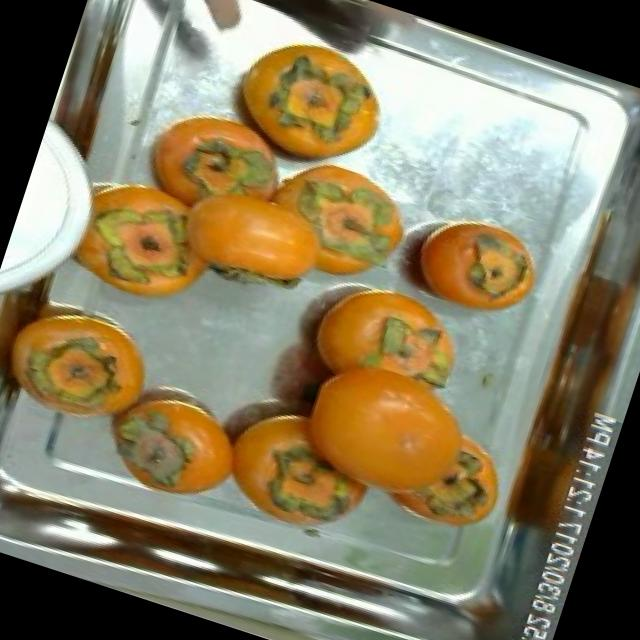Fruit: (310, 351, 542, 554), (38, 140, 249, 335), (196, 9, 413, 196), (76, 347, 272, 520), (0, 271, 180, 454), (118, 73, 294, 232), (384, 188, 564, 338), (256, 138, 434, 276)
